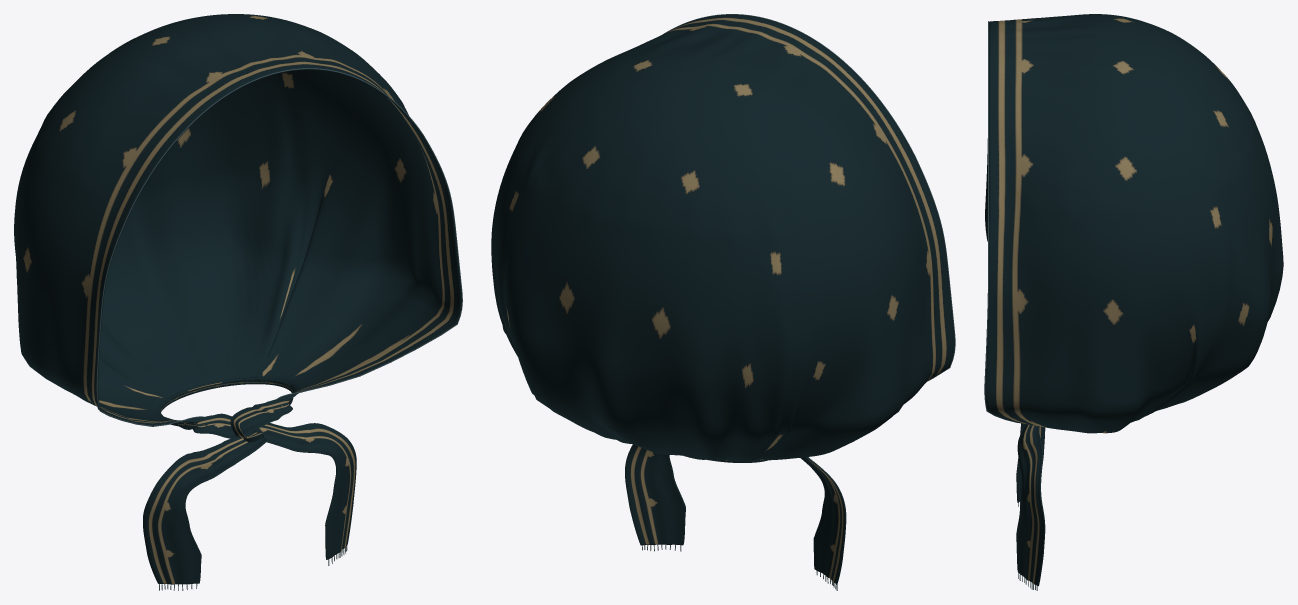
Rendered from Masculine-sweatshirt-pashmina244-headgear.glb.
The picture shows the model from 3 angles, left to right: view 1: azimuth 30°, elevation 25°; view 2: azimuth 150°, elevation 25°; view 3: azimuth 270°, elevation 25°; orthographic projection. The views are drawn at different scales.
Visible parts, largest first — view 1: 226 headgear / Headwear / continuous woven pashmina239, 226 headgear / Headwear / face edge239; view 2: 226 headgear / Headwear / continuous woven pashmina239, 226 headgear / Headwear / face edge239; view 3: 226 headgear / Headwear / continuous woven pashmina239, 226 headgear / Headwear / face edge239.
Boxes of the visible parts, x1,y1,x2,y2 form: 226 headgear / Headwear / continuous woven pashmina239: (14, 14, 461, 584); 226 headgear / Headwear / face edge239: (96, 68, 462, 426); 226 headgear / Headwear / continuous woven pashmina239: (491, 14, 954, 584); 226 headgear / Headwear / face edge239: (664, 14, 955, 380); 226 headgear / Headwear / continuous woven pashmina239: (985, 14, 1283, 586); 226 headgear / Headwear / face edge239: (984, 21, 1022, 423).
Size of the model in its own units: 1.03 by 1.35 by 0.7127.
3 materials, 1 textured.
